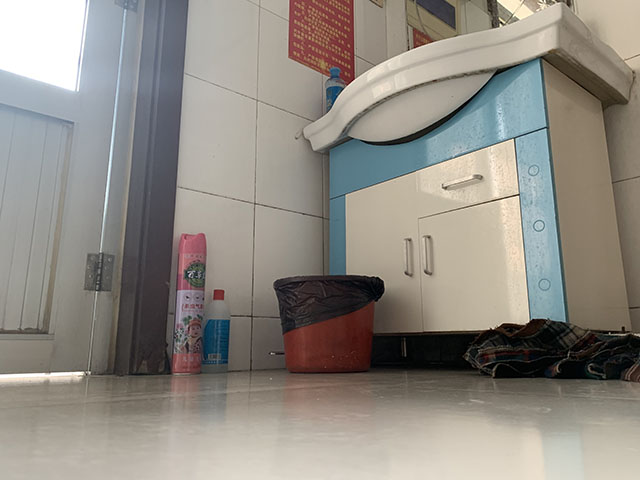cabinet: (301, 1, 635, 366)
trashcan: (273, 274, 385, 375)
